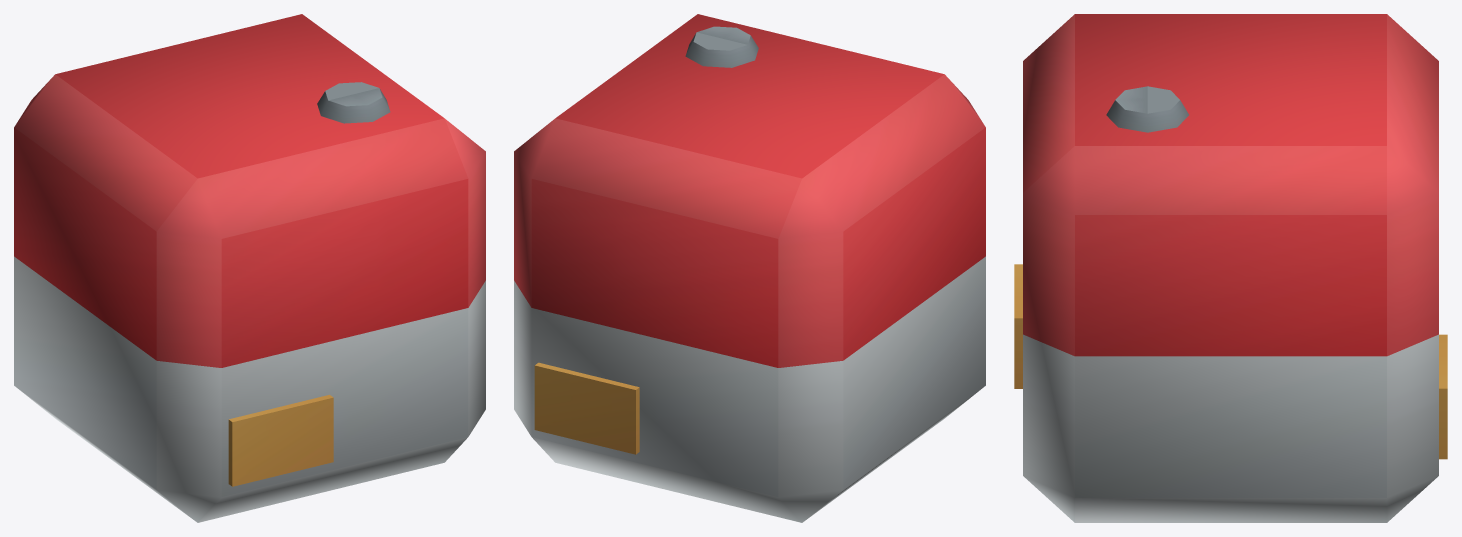
Rendered from cargo_A.glb.
3 renders of one model, left to right at view 1: azimuth 30°, elevation 25°; view 2: azimuth 150°, elevation 25°; view 3: azimuth 270°, elevation 25°, orthographic. The views are drawn at different scales.
Parts seen in each view (by area): view 1: cargo_A_Cube.15110; view 2: cargo_A_Cube.15110; view 3: cargo_A_Cube.15110.
Boxes of the visible parts, bbox=[...] form: cargo_A_Cube.15110: bbox=[14, 14, 485, 522]; cargo_A_Cube.15110: bbox=[514, 14, 985, 522]; cargo_A_Cube.15110: bbox=[1014, 14, 1447, 522].
Bounding box in the file's own units: 0.5 × 0.52 × 0.5205.
Materials: 1 (1 with a texture image).
